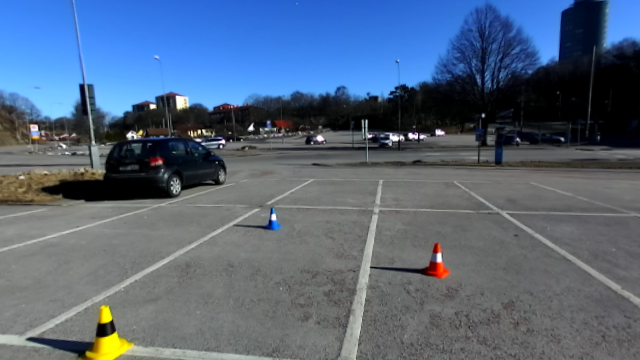blue: (263, 207, 283, 231)
orange: (420, 243, 451, 280)
yellow: (83, 304, 138, 360)
